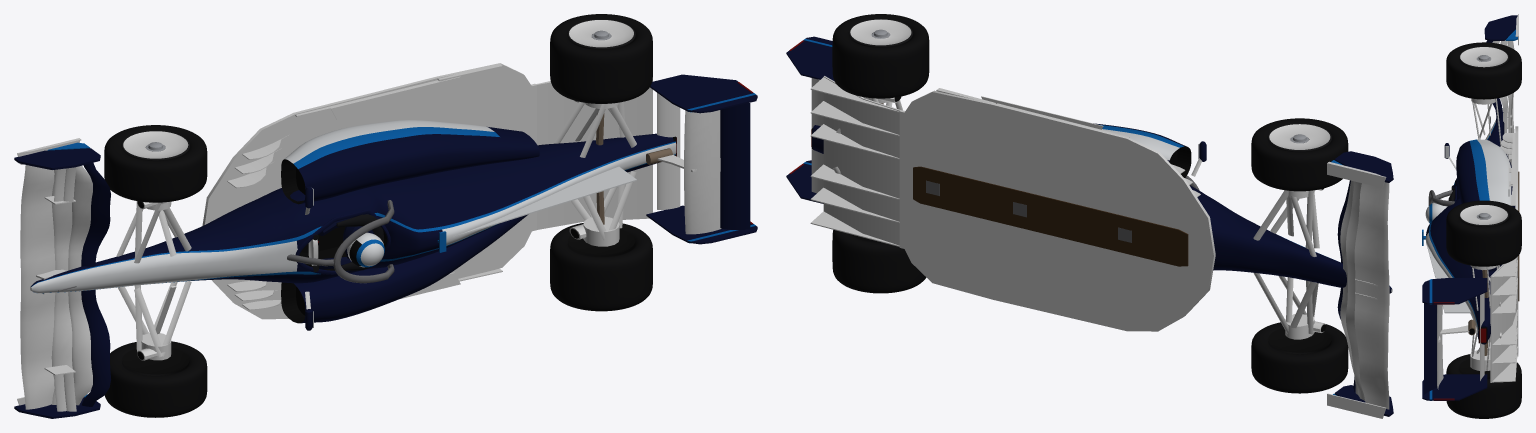
Rendered from formula1_visual.obj.
The picture shows the model from 3 angles, left to right: view 1: azimuth 30°, elevation 25°; view 2: azimuth 150°, elevation 25°; view 3: azimuth 270°, elevation 25°; orthographic projection. The views are drawn at different scales.
Visible parts, largest first — view 1: body, front_wing_shell, rear_wing_shell, wheel_RR_mesh, wheel_RL_mesh, wheel_FR_mesh, wheel_FL_mesh, drs_flap_shell; view 2: body, front_wing_shell, wheel_RR_mesh, wheel_FR_mesh, wheel_FL_mesh, wheel_RL_mesh, rear_wing_shell; view 3: body, wheel_RR_mesh, rear_wing_shell, wheel_FR_mesh, wheel_RL_mesh, front_wing_shell, drs_flap_shell.
Boxes of the visible parts, box(x1,y1,x2,y2) form: body: box(30, 63, 676, 360); front_wing_shell: box(14, 138, 110, 418); rear_wing_shell: box(646, 74, 757, 244); wheel_RR_mesh: box(550, 14, 652, 103); wheel_RL_mesh: box(550, 223, 652, 311); wheel_FR_mesh: box(104, 125, 207, 202); wheel_FL_mesh: box(105, 341, 207, 417); drs_flap_shell: box(720, 103, 750, 229); body: box(810, 76, 1392, 339); front_wing_shell: box(1327, 151, 1393, 418); wheel_RR_mesh: box(832, 14, 929, 98); wheel_FR_mesh: box(1251, 118, 1348, 191); wheel_FL_mesh: box(1251, 322, 1348, 393); wheel_RL_mesh: box(832, 230, 926, 293); rear_wing_shell: box(786, 36, 834, 203); body: box(1422, 98, 1519, 382); wheel_RR_mesh: box(1446, 200, 1521, 266); rear_wing_shell: box(1422, 278, 1487, 400); wheel_FR_mesh: box(1446, 42, 1521, 99); wheel_RL_mesh: box(1446, 354, 1521, 418); front_wing_shell: box(1484, 14, 1518, 207); drs_flap_shell: box(1424, 303, 1436, 394).
Size of the model in its own units: 5.5 by 2.01 by 0.9506.
